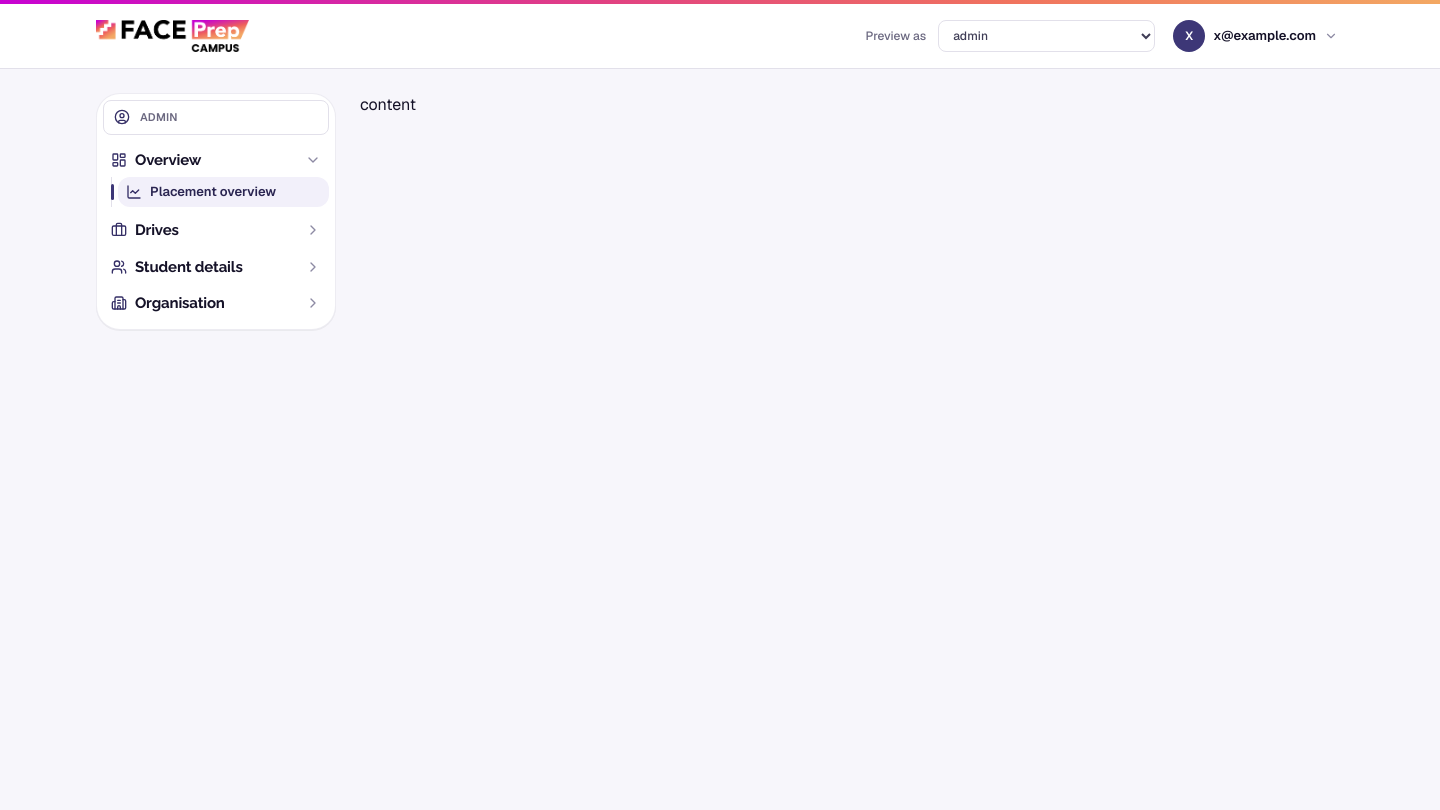
Test: signing out › closes when the click lands outside it
Click the button "Drives" at {"x": 216, "y": 230}, box x1=103 y1=213 x2=329 y2=248
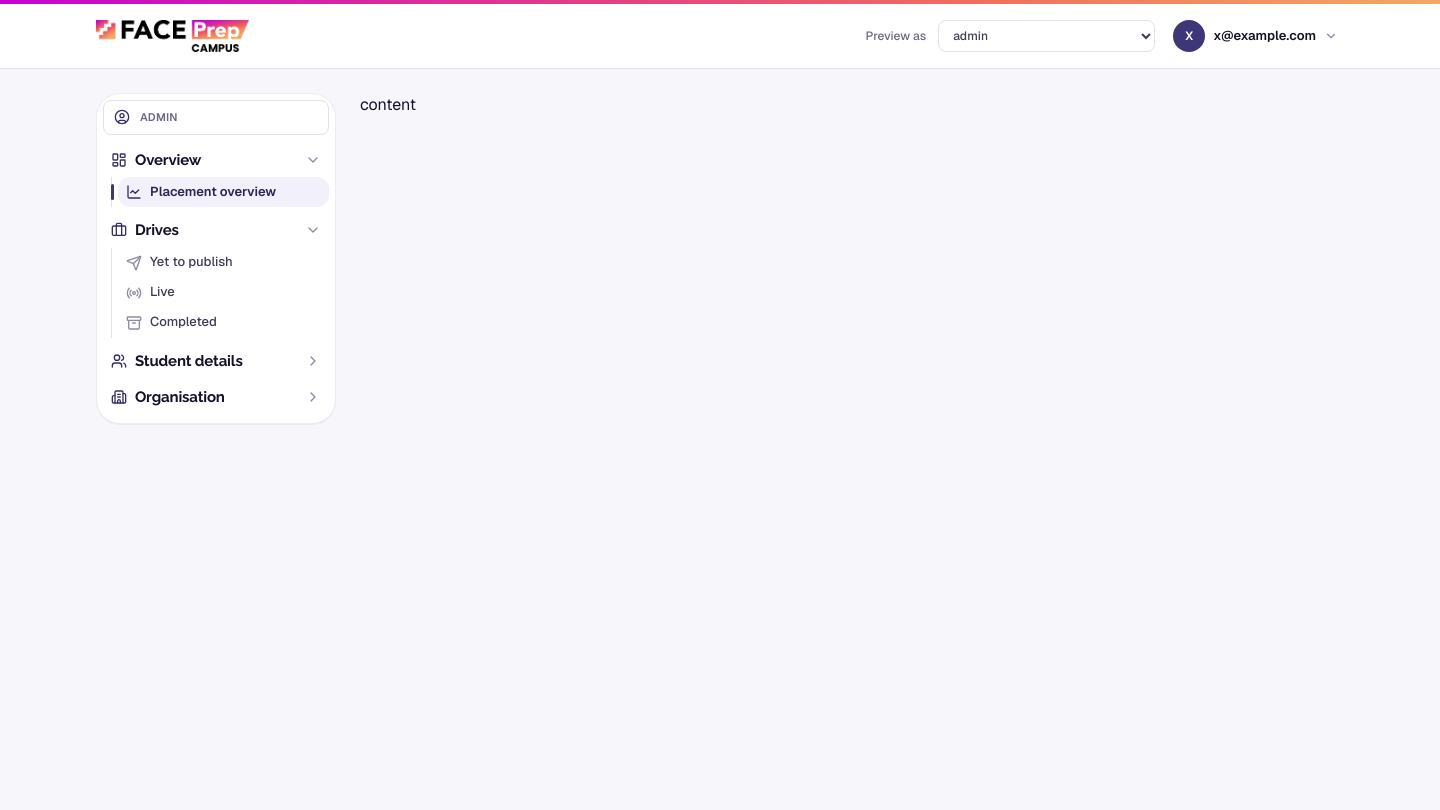
Click the button "Student details" at {"x": 216, "y": 361}, box x1=103 y1=344 x2=329 y2=378
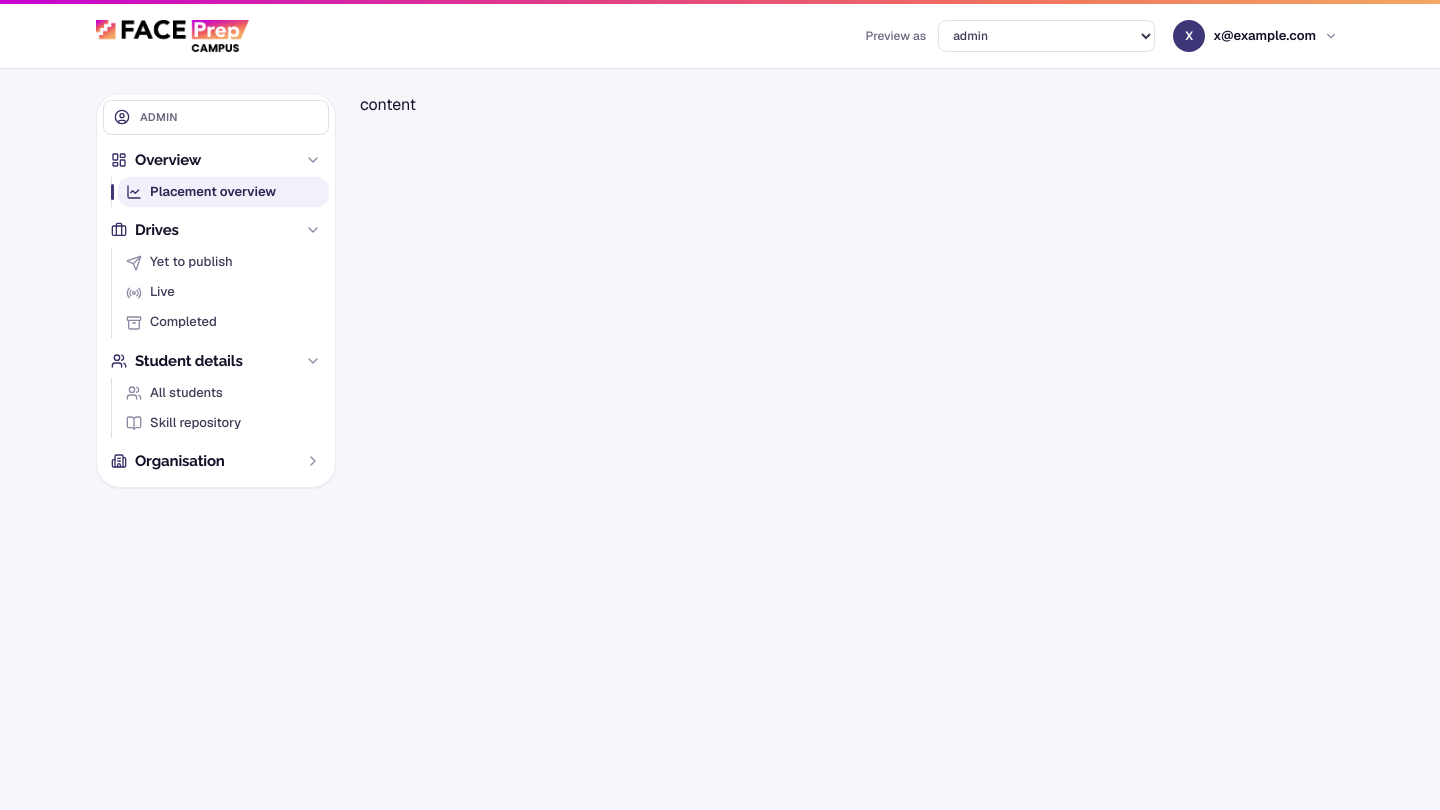
Click the button "Organisation" at {"x": 216, "y": 461}, box x1=103 y1=444 x2=329 y2=478
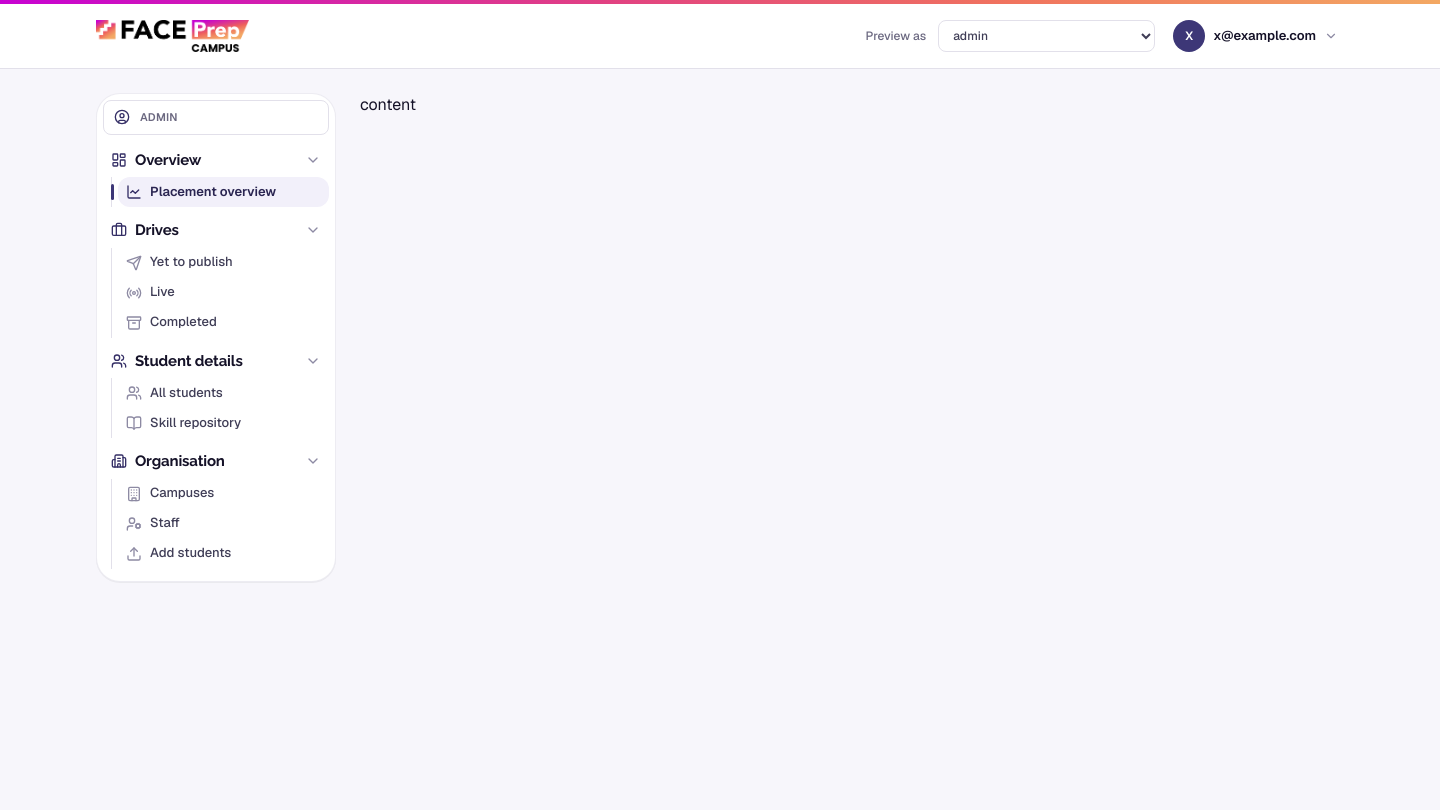
Click the button with aria-label "account menu" at {"x": 1256, "y": 36}, box x1=1167 y1=16 x2=1344 y2=56
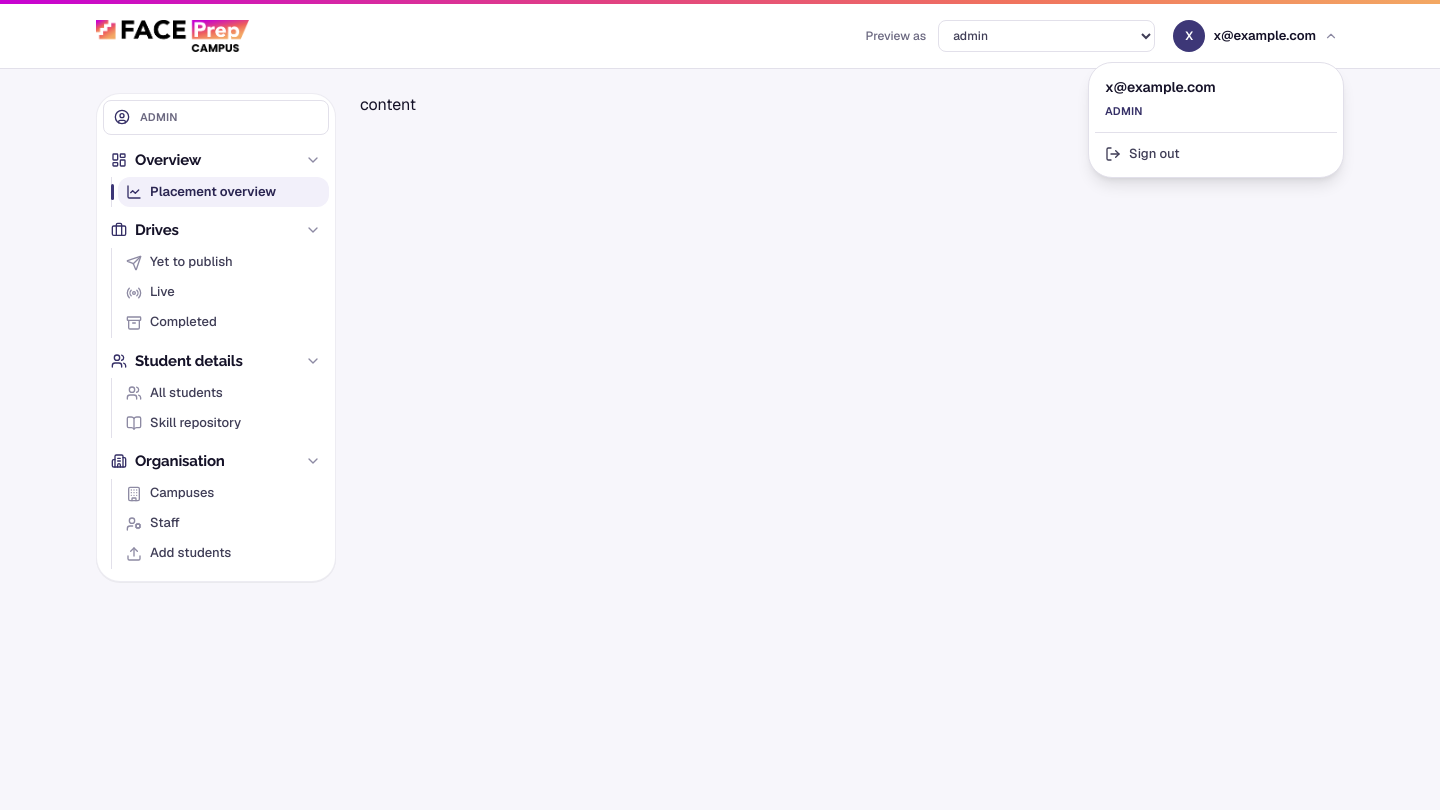
Press the mouse on the text "content" at {"x": 388, "y": 104}, box x1=360 y1=94 x2=416 y2=115
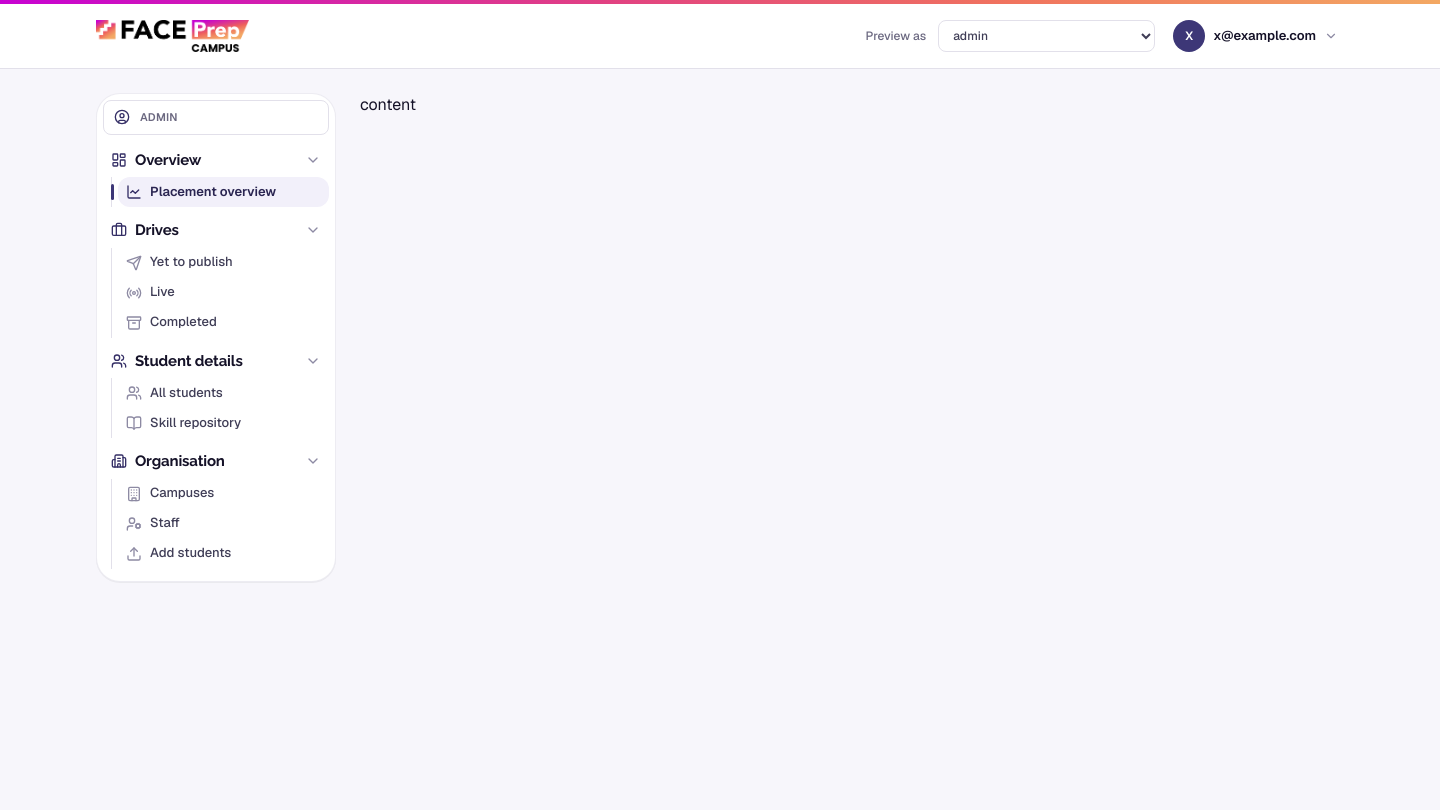
Now the menu "account" is gone
